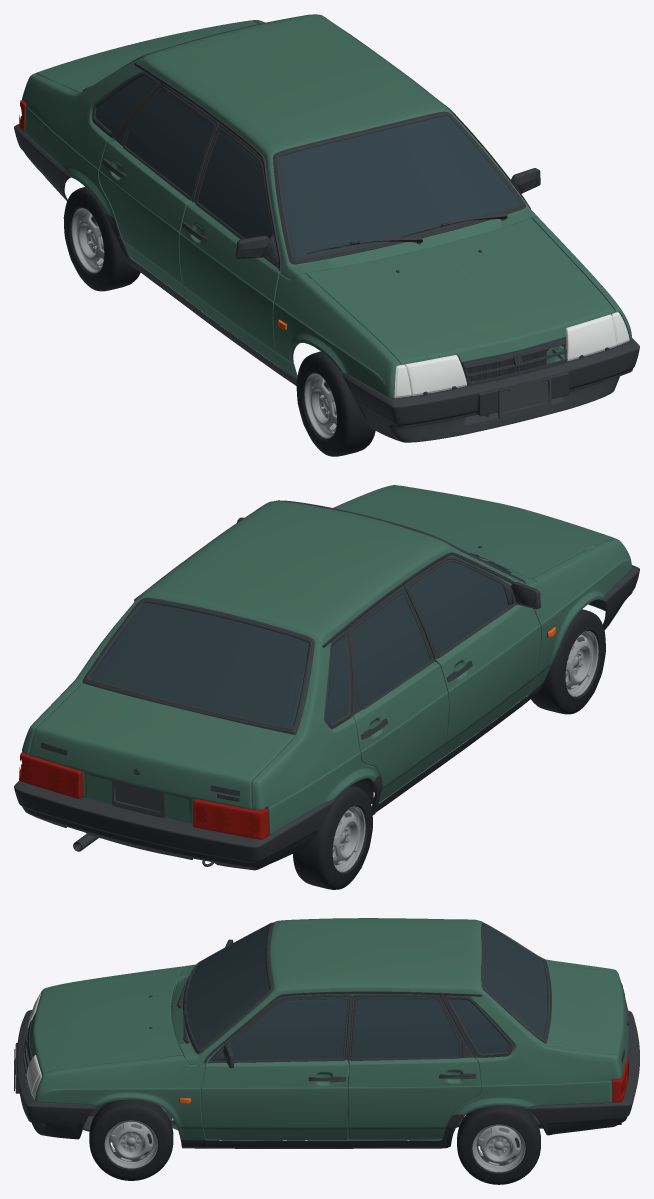
Rendered from vaz21099.glb.
3 renders of one model, top to bottom at view 1: azimuth 30°, elevation 25°; view 2: azimuth 150°, elevation 25°; view 3: azimuth 270°, elevation 25°, orthographic. The views are drawn at different scales.
Parts seen in each view (by area): view 1: chassisbody, glass, chassis_trim, wheel_fr, wheel_rr, headlights; view 2: chassisbody, glass, chassis_trim, wheel_rr, wheel_fr, taillights; view 3: chassisbody, glass, chassis_trim, wheel_fl, wheel_rl, headlights, taillights.
Boxes of the visible parts, x1=… form: chassisbody: x1=22, y1=14, x2=632, y2=398; glass: x1=95, y1=76, x2=520, y2=258; chassis_trim: x1=14, y1=14, x2=639, y2=442; wheel_fr: x1=296, y1=351, x2=375, y2=456; wheel_rr: x1=63, y1=187, x2=140, y2=291; headlights: x1=394, y1=312, x2=629, y2=398; chassisbody: x1=22, y1=485, x2=632, y2=835; glass: x1=90, y1=561, x2=508, y2=727; chassis_trim: x1=14, y1=500, x2=639, y2=870; wheel_rr: x1=293, y1=785, x2=372, y2=889; wheel_fr: x1=531, y1=609, x2=605, y2=714; taillights: x1=19, y1=752, x2=269, y2=839; chassisbody: x1=27, y1=918, x2=628, y2=1140; glass: x1=186, y1=925, x2=547, y2=1060; chassis_trim: x1=14, y1=922, x2=639, y2=1148; wheel_fl: x1=89, y1=1100, x2=173, y2=1180; wheel_rl: x1=457, y1=1105, x2=540, y2=1184; headlights: x1=26, y1=992, x2=41, y2=1099; taillights: x1=612, y1=999, x2=628, y2=1102.
Bounding box in the file's own units: 1.99 × 1.5 × 4.5.
